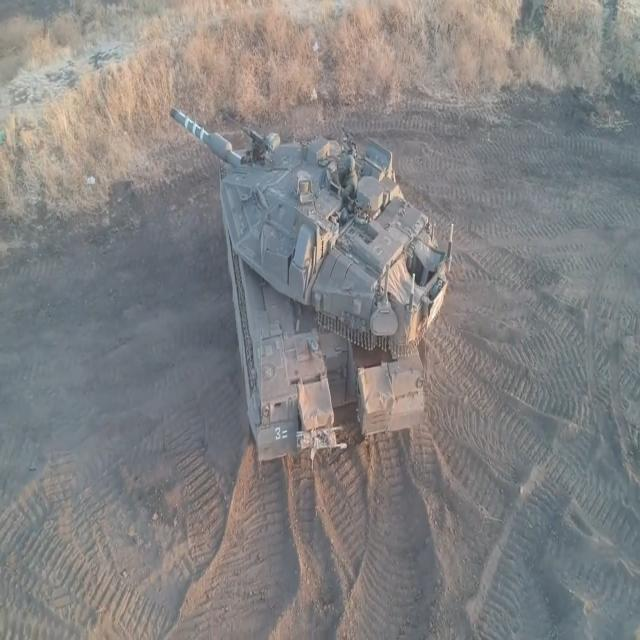tank: (145, 94, 484, 498)
